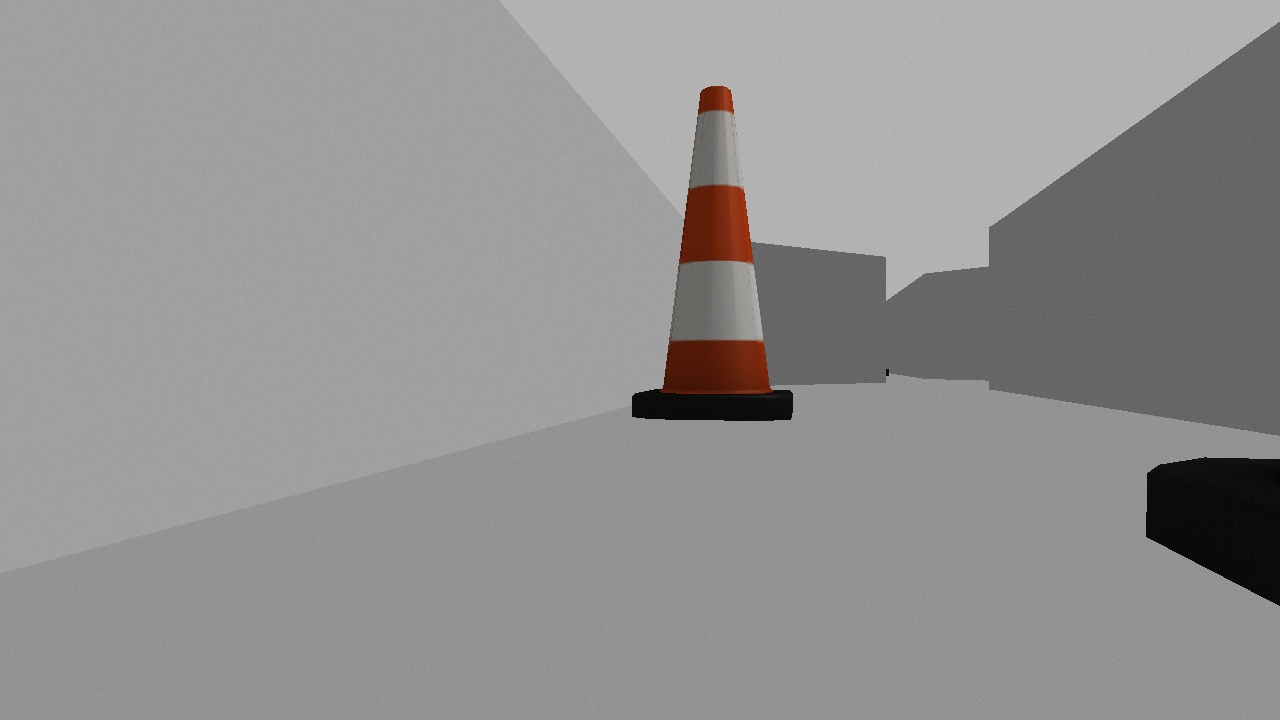barricade: (621, 78, 808, 435)
